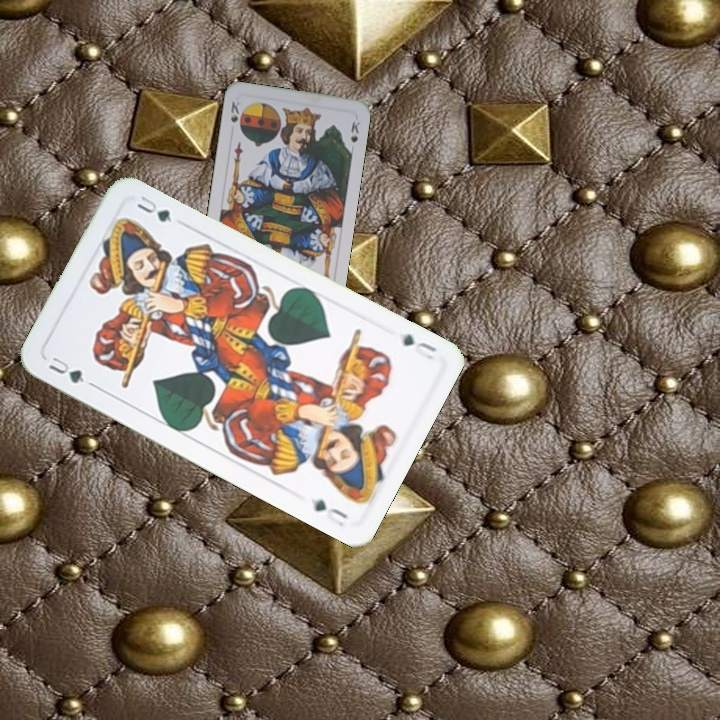GU: (44, 353, 96, 389), (398, 330, 440, 362)
SK: (226, 97, 243, 125)
